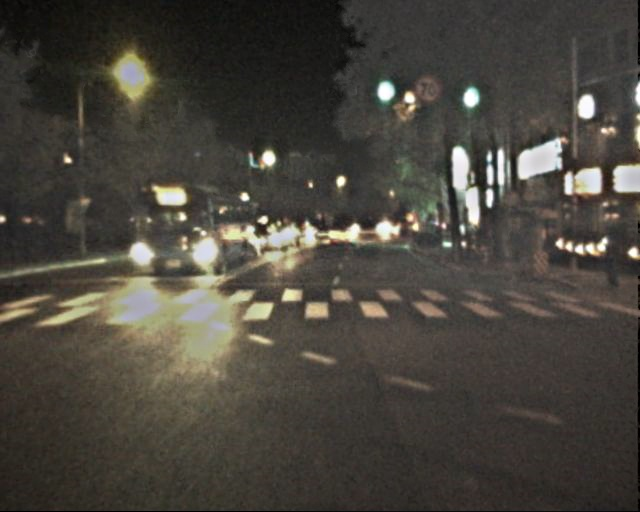person: (592, 233, 626, 288), (504, 221, 525, 271)
